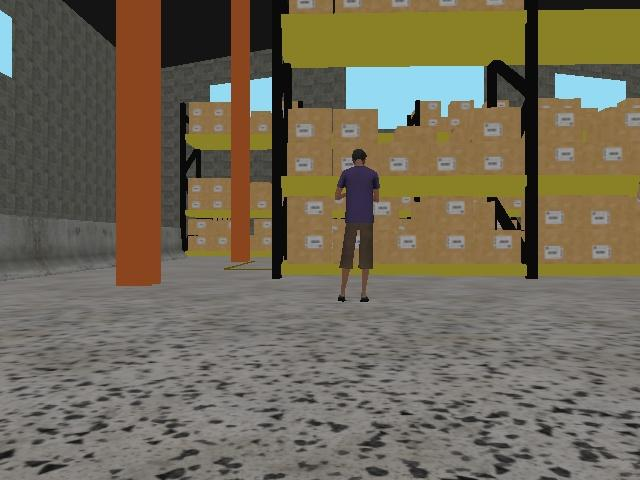person: (334, 147, 382, 305)
